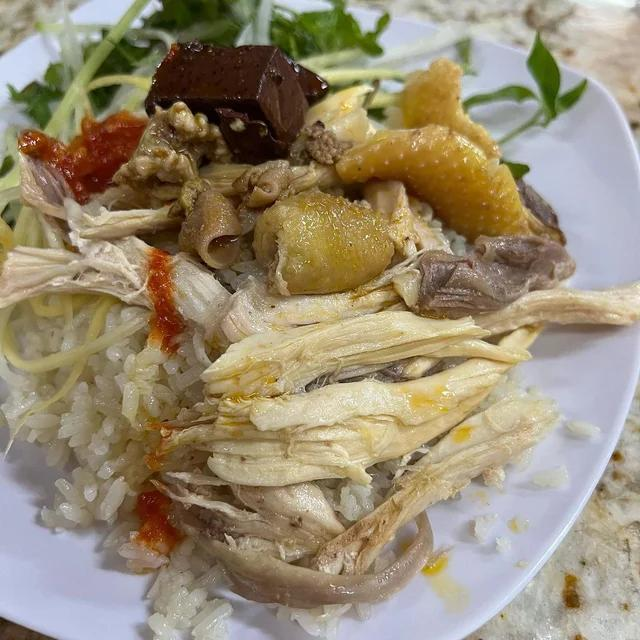com: (1, 287, 218, 539), (94, 515, 236, 640)
com ga: (3, 0, 639, 640)
rau ram: (3, 0, 263, 140), (454, 23, 594, 159)
thit ga: (144, 265, 622, 611), (240, 57, 550, 303), (1, 148, 247, 352)
